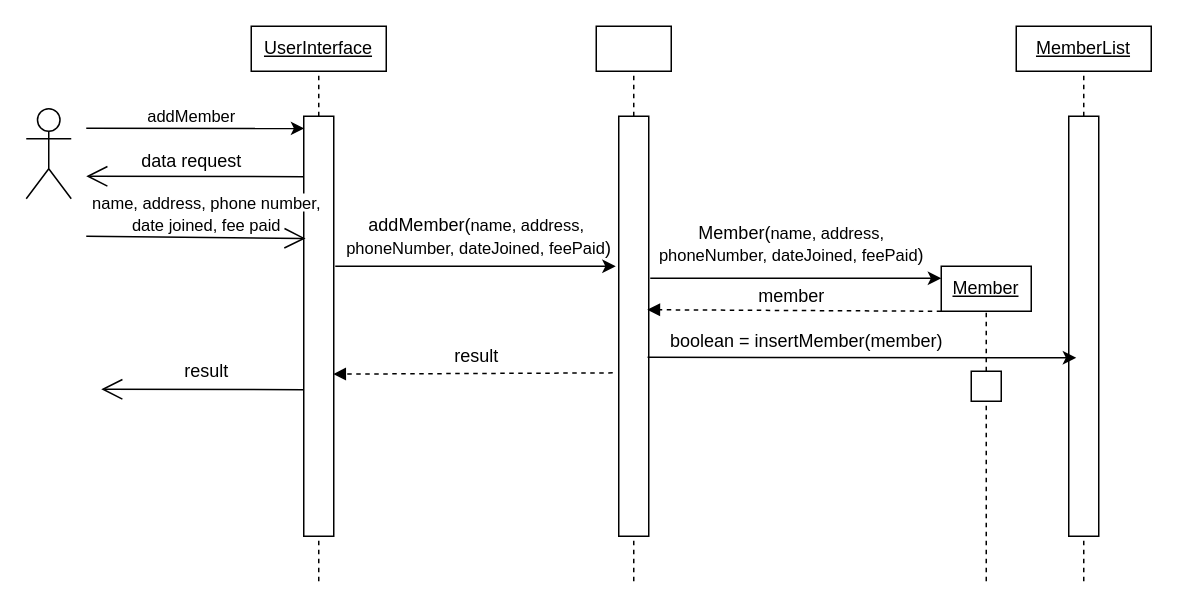
Image size: 1178x609. Some labels were removed from this diagram. Each missing label, with the centre of its shape:
"Clerk" belongs at (x=48, y=153).
"Store" belongs at (x=633, y=48).
